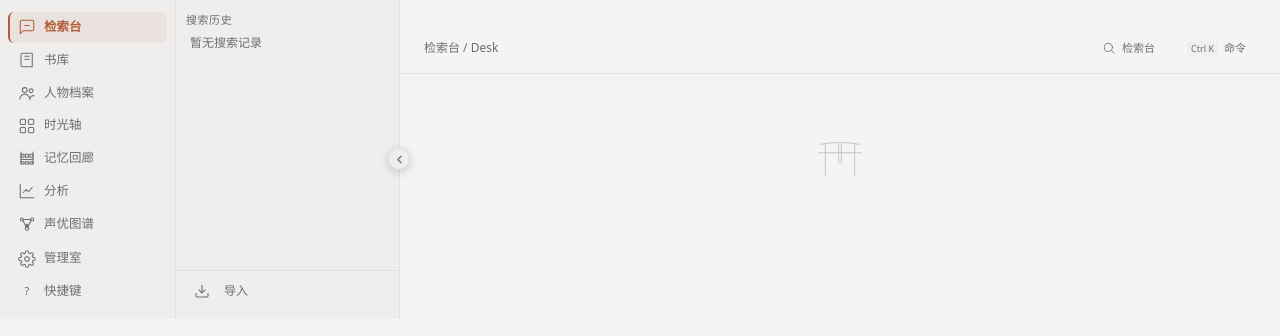
Test: 主导航入口 › 导航栏存在「记忆回廊」按钮，点击切换到记忆回廊区
Click the button titled "记忆回廊".
click(88, 158)  # box [8,143,167,174]
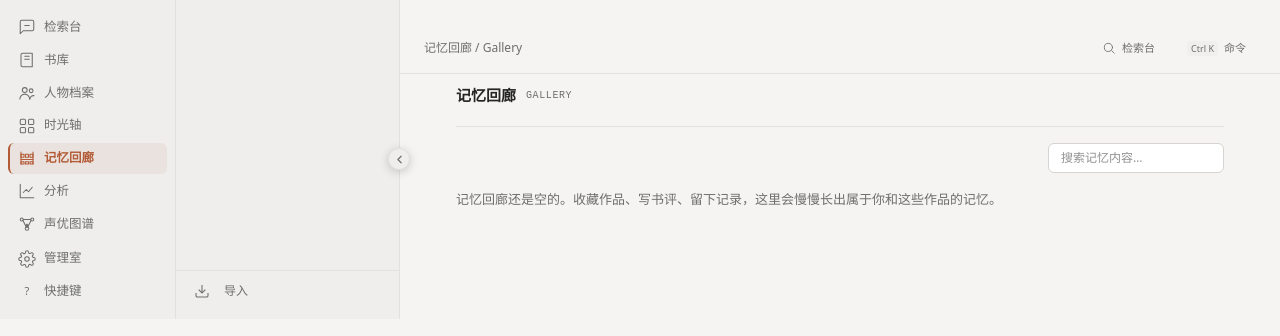
Check: the text "GALLERY" is shown, box [526,88,572,103]
